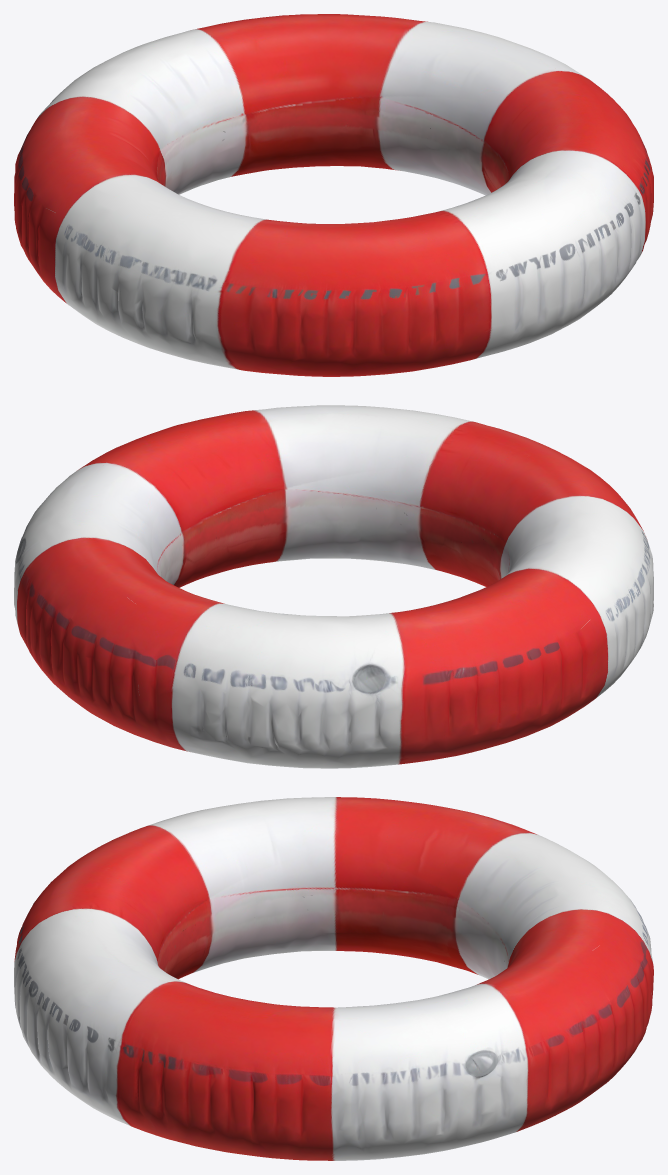
Rendered from Floatie.fbx.
3 renders of one model, top to bottom at view 1: azimuth 30°, elevation 25°; view 2: azimuth 150°, elevation 25°; view 3: azimuth 270°, elevation 25°, orthographic.
Parts seen in each view (by area): view 1: Mesh_0; view 2: Mesh_0; view 3: Mesh_0.
Part boxes in pixels (<box>): Mesh_0: <box>14,14,653,376</box>; Mesh_0: <box>14,405,653,768</box>; Mesh_0: <box>14,797,653,1160</box>.
Bounding box in the file's own units: 98.76 × 23.89 × 98.52.
Materials: 1 (1 with a texture image).
